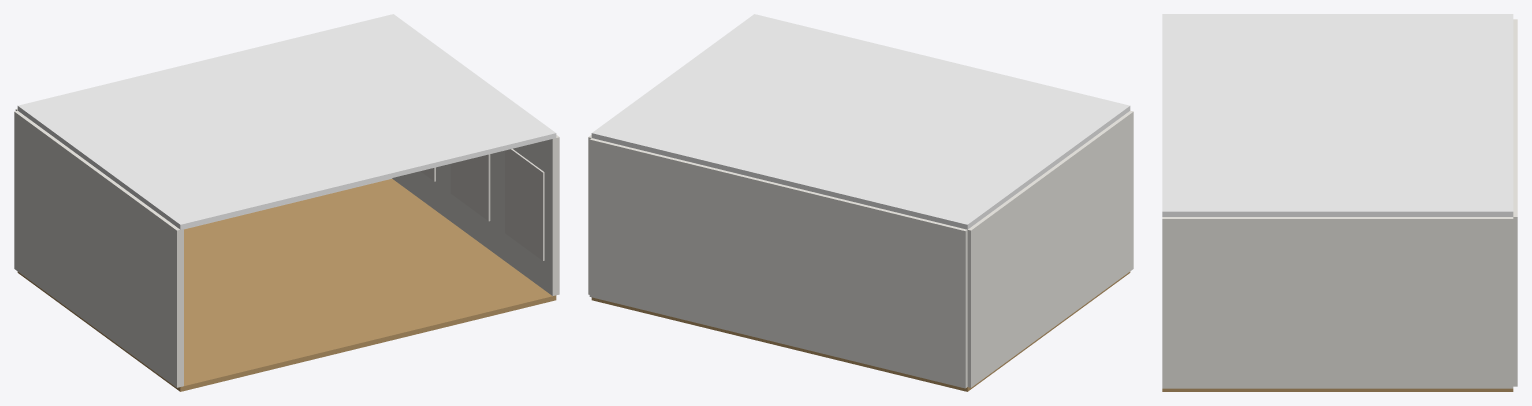
File: room-salle.glb
The picture shows the model from 3 angles, left to right: view 1: azimuth 30°, elevation 25°; view 2: azimuth 150°, elevation 25°; view 3: azimuth 270°, elevation 25°; orthographic projection. The views are drawn at different scales.
Parts seen in each view (by area): view 1: Ceiling, Floor, WallLeft, WallRight, WinFrame0, WinFrame1; view 2: Ceiling, WallBack, WallLeft, Floor; view 3: Ceiling, WallRight, WallBack, Floor.
Boxes of the visible parts, x1,y1,x2,y2 form: Ceiling: (17, 14, 556, 229); Floor: (17, 179, 556, 391); WallLeft: (14, 110, 183, 387); WallRight: (392, 135, 559, 295); WinFrame0: (505, 148, 544, 260); WinFrame1: (450, 154, 490, 221); Ceiling: (591, 14, 1130, 229); WallBack: (589, 138, 967, 388); WallLeft: (967, 110, 1133, 387); Floor: (591, 271, 1130, 391); Ceiling: (1162, 14, 1513, 216); WallRight: (1162, 217, 1513, 388); WallBack: (1513, 19, 1517, 386); Floor: (1162, 388, 1513, 391).
Bounding box in the file's own units: 8.15 × 3.4 × 6.08.
